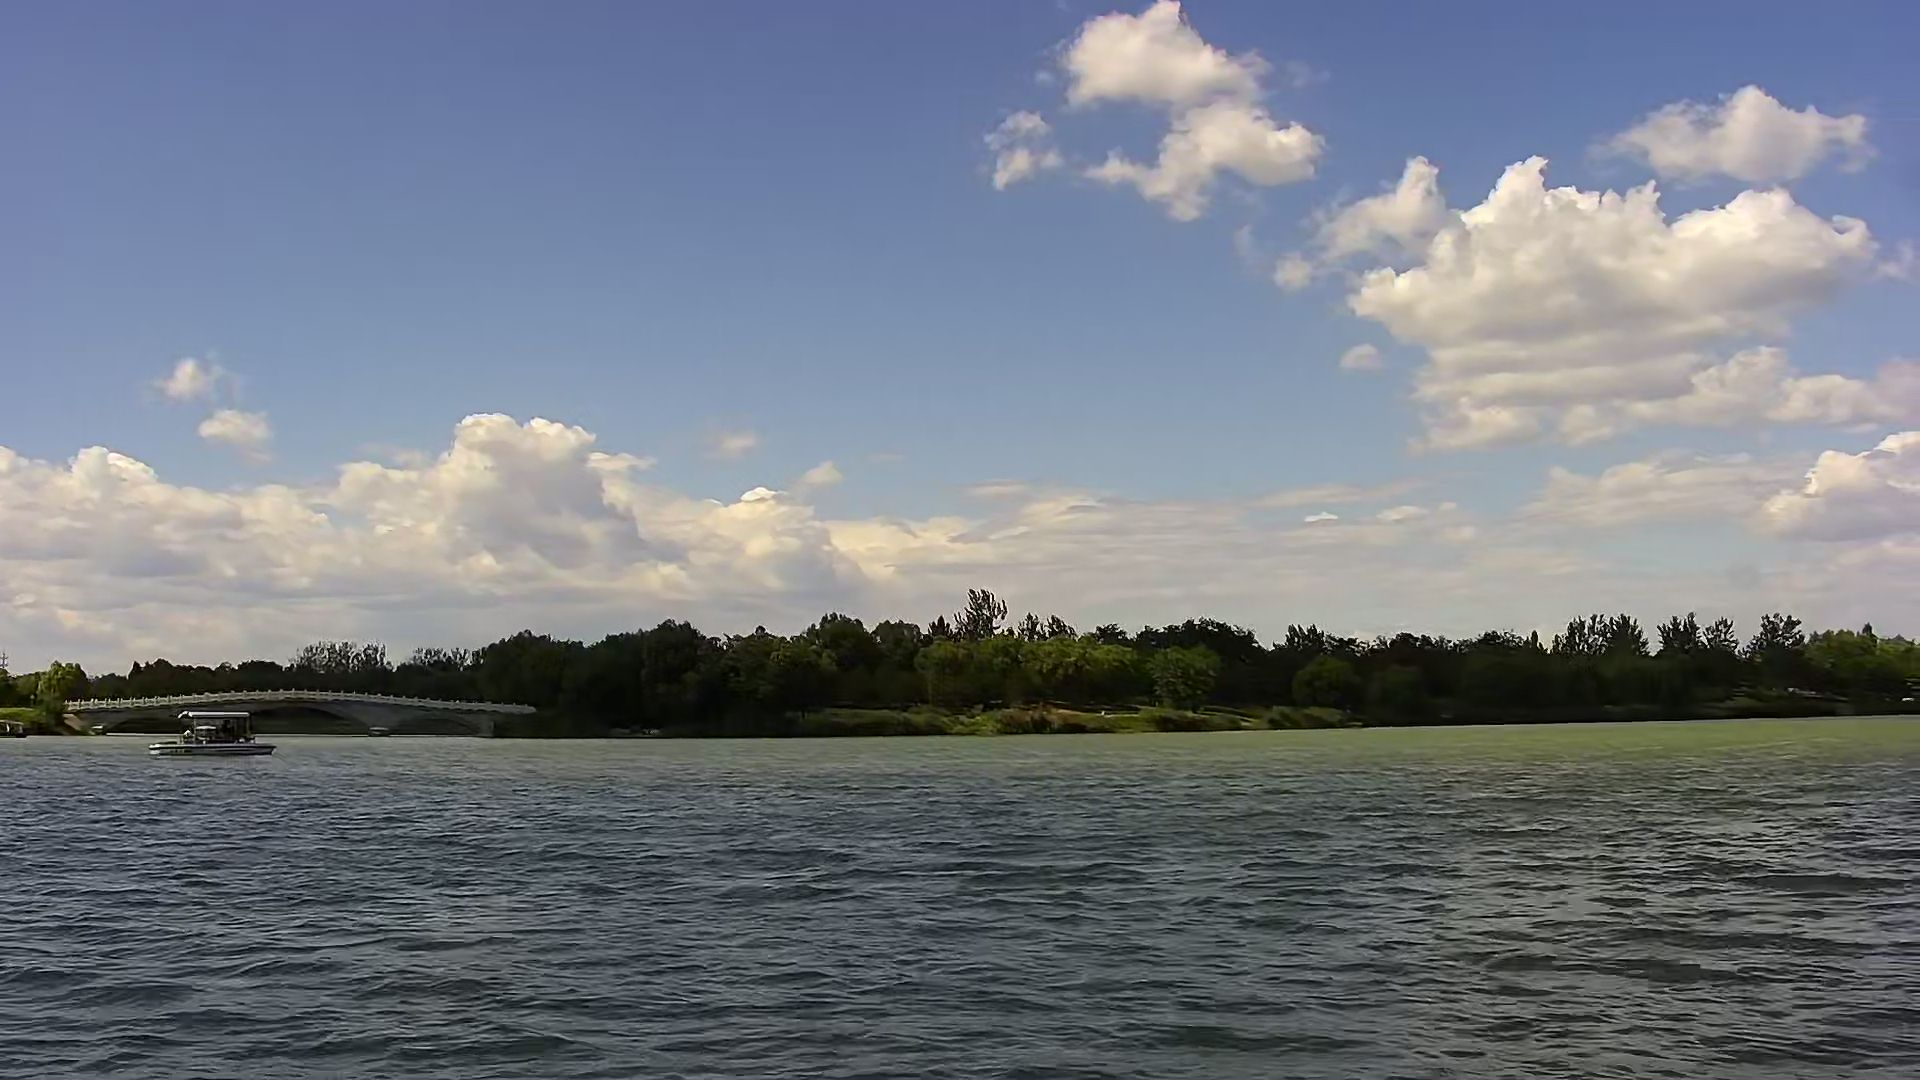boat: (148, 709, 282, 760)
bridge: (58, 687, 533, 737)
